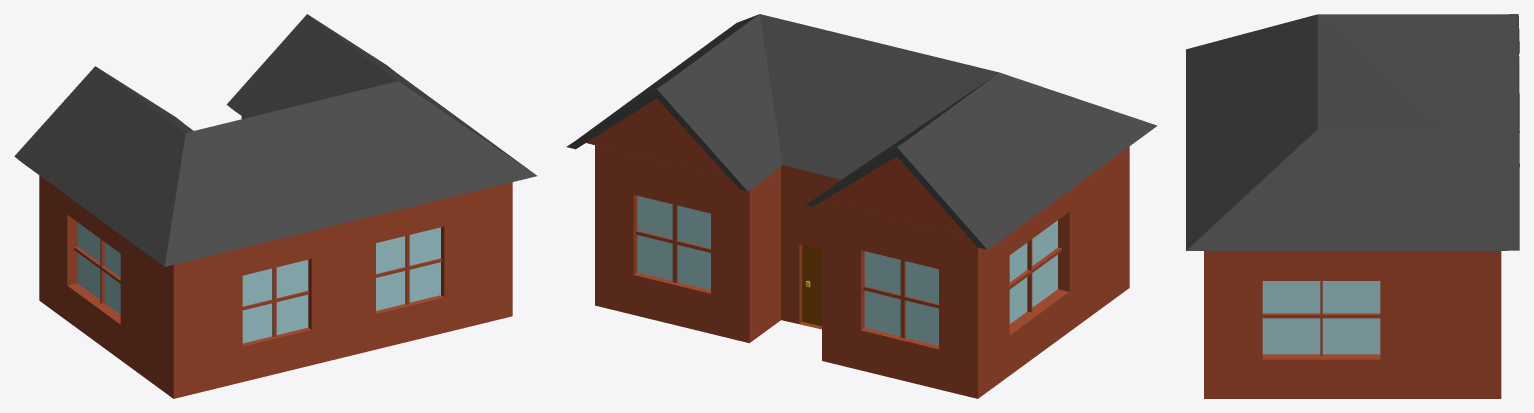
Rendered from UHouse2.gltf.
The picture shows the model from 3 angles, left to right: view 1: azimuth 30°, elevation 25°; view 2: azimuth 150°, elevation 25°; view 3: azimuth 270°, elevation 25°; orthographic projection. The views are drawn at different scales.
Visible parts, largest first — view 1: U-Shape.001; view 2: U-Shape.001; view 3: U-Shape.001.
Part boxes in pixels (x1,y1,x2,y2): U-Shape.001: [14, 14, 536, 398]; U-Shape.001: [566, 14, 1157, 398]; U-Shape.001: [1186, 14, 1519, 398].
Bounding box in the file's own units: 19.26 × 10.52 × 13.47.
